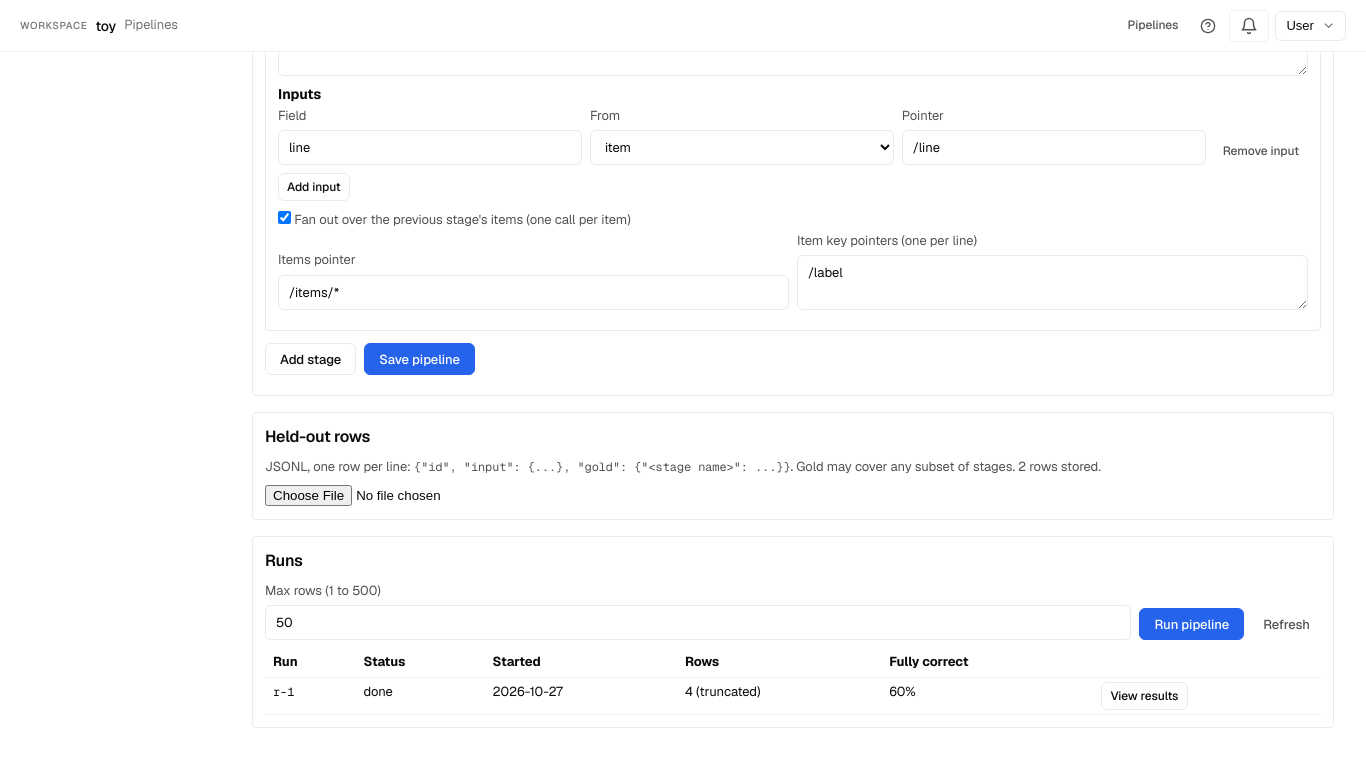
Test: Held-out upload, runs and results › runs the pipeline as a job
This screenshot has width=1366, height=768.
(page scrolled)
Click the button with test id "run-start". click: (1192, 624)
box: [1140,608,1244,640]
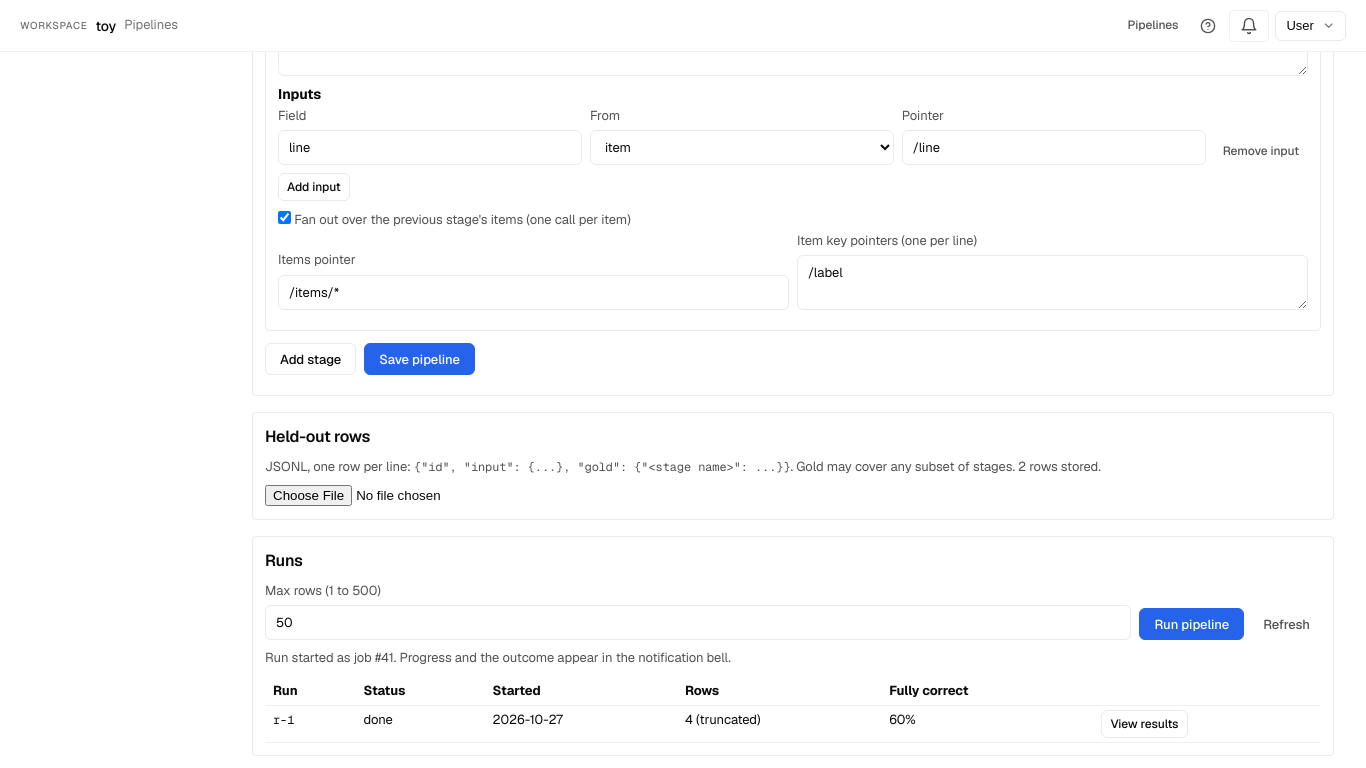
Expected: the text with test id "run-started" shows "job #41", [265,650,731,666]
